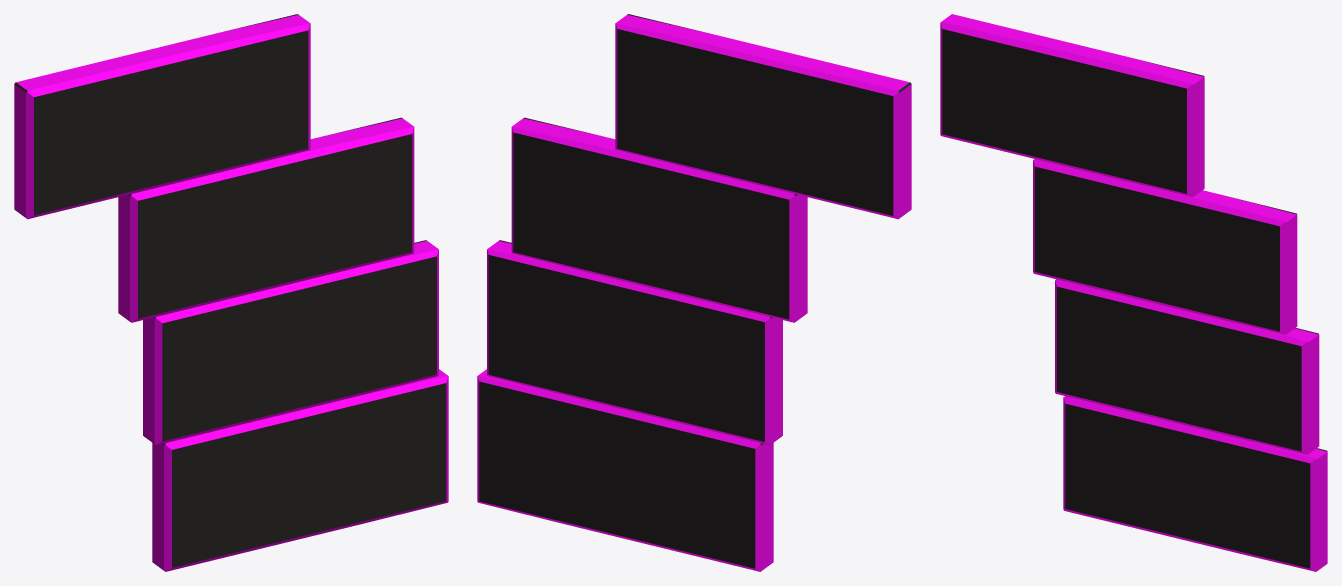
File: Puerta.fbx
3 views of the same model, side by side, from view 1: azimuth 30°, elevation 25°; view 2: azimuth 150°, elevation 25°; view 3: azimuth 330°, elevation 25° (orthographic). The views are drawn at different scales.
Visible parts, largest first — view 1: Plane, Plane.001, Plane.003, Plane.002; view 2: Plane, Plane.001, Plane.003, Plane.002; view 3: Plane, Plane.001, Plane.002, Plane.003.
Boxes of the visible parts, <box> form: Plane: <box>14,14,310,219</box>; Plane.001: <box>118,117,414,322</box>; Plane.003: <box>152,369,448,571</box>; Plane.002: <box>143,240,438,445</box>; Plane: <box>615,14,911,219</box>; Plane.001: <box>511,117,807,322</box>; Plane.003: <box>477,369,773,571</box>; Plane.002: <box>487,240,782,445</box>; Plane: <box>940,14,1204,196</box>; Plane.001: <box>1033,159,1297,334</box>; Plane.002: <box>1055,279,1319,454</box>; Plane.003: <box>1063,396,1327,571</box>.
Size of the model in its own units: 1024 by 1192 by 70.88.
